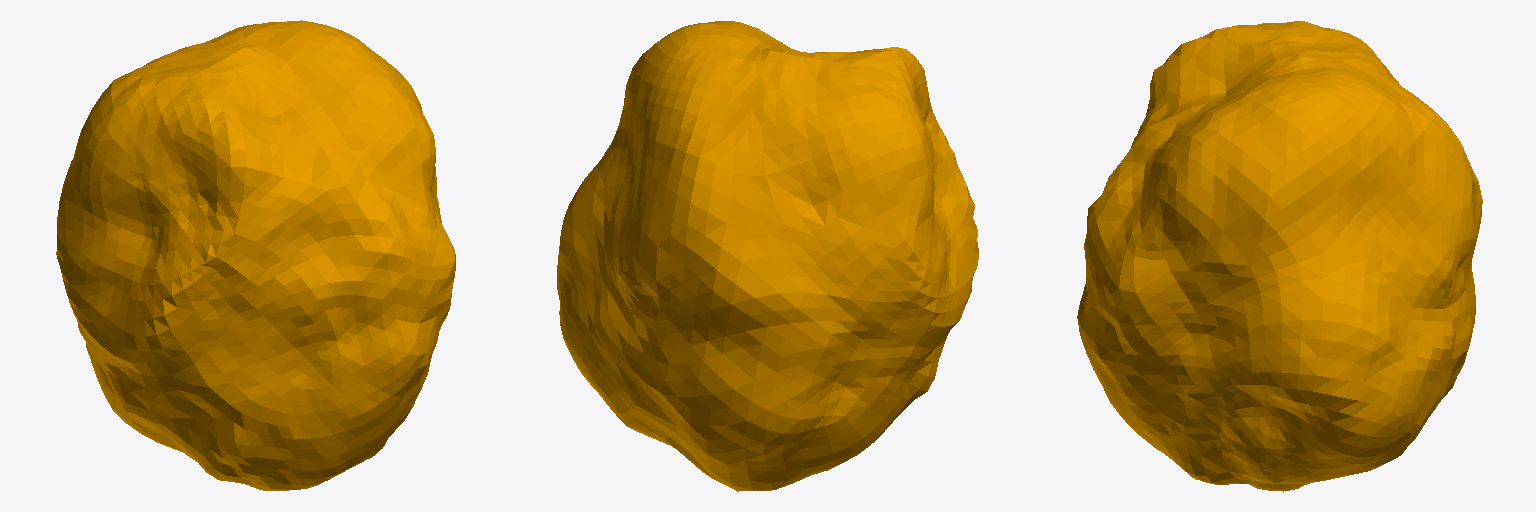
The robot description file, URDF, robot "rock":
<?xml version="1.0" ?>
<robot name="rock">
  <link name="rock">
    <inertial>
      <mass value="0.224"/>
      <origin rpy="0 0 0" xyz="0 0 0"/>
      <inertia ixx="0.000224" ixy="0" ixz="0" iyy="0.000224" iyz="0" izz="0.000224"/>
    </inertial>
    <collision name="rock_collision">
      <origin rpy="0 0 0" xyz="0 0 0"/>
      <geometry>
        <mesh filename="package://rocks/visual/84.dae" scale="1 1 1"/>
      </geometry>
    </collision>
    <visual name="rock_visual">
      <origin rpy="0 0 0" xyz="0 0 0"/>
      <geometry>
        <mesh filename="package://rocks/visual/84.dae" scale="1 1 1"/>
      </geometry>
    </visual>
  </link>
</robot>

--- Facts derived from the render (not from the file) ---
The picture shows the robot from 3 angles, left to right: view 1: azimuth 30°, elevation 25°; view 2: azimuth 150°, elevation 25°; view 3: azimuth 270°, elevation 25°; orthographic projection.
Robot: rock — 1 links, 0 joints (none); root link rock; default pose: all joints at 0.
Links seen in each view (by area): view 1: rock; view 2: rock; view 3: rock.
Boxes of the visible links, x1=… form: rock: x1=56, y1=20, x2=455, y2=490; rock: x1=557, y1=21, x2=978, y2=491; rock: x1=1077, y1=21, x2=1482, y2=491.
Size in the robot's own frame: 0.0823 by 0.0801 by 0.0889 metres.
1 mesh visuals loaded from 1 distinct referenced files (1 Collada DAE).